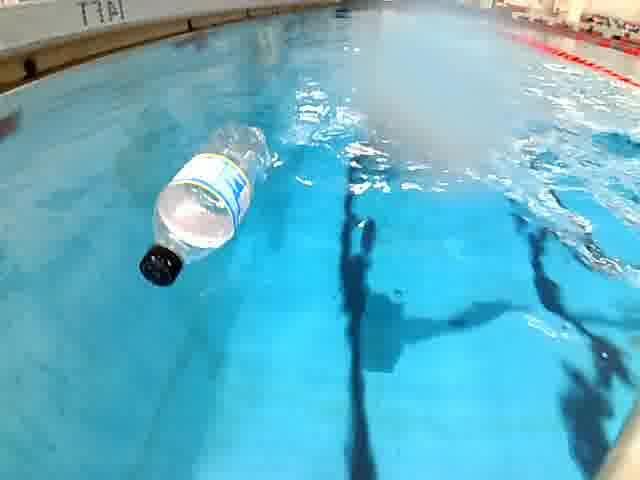Bottle: (134, 118, 274, 293)
